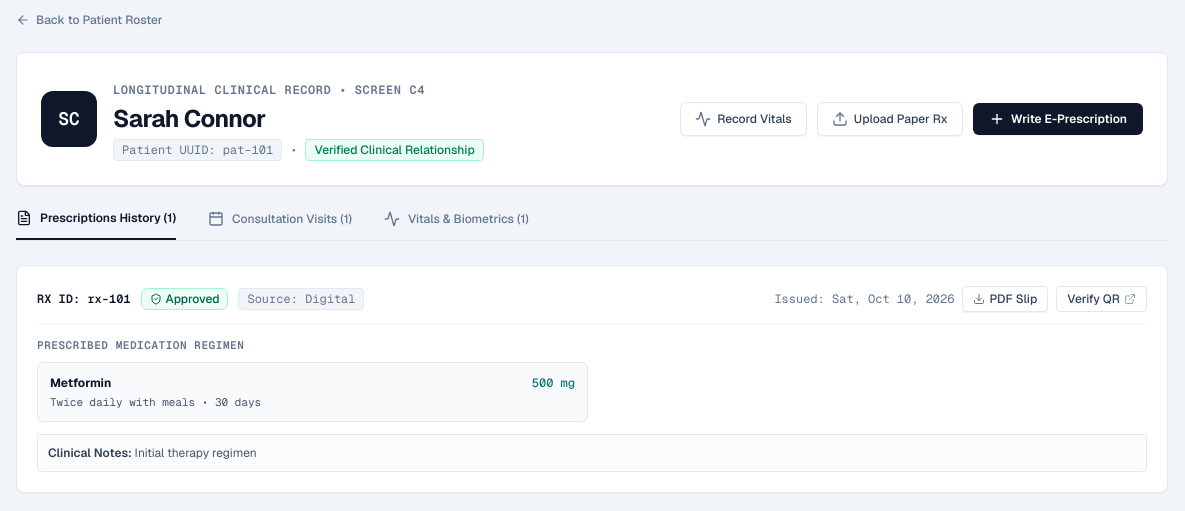
Test: DoctorPatientChart Component (Screen C4) › switches to Consultation Visits tab and displays appointment history
Check: the heading "Sarah Connor" is shown, box [113,103,266,134]
Click the button "Consultation Visits (1)".
click(280, 225)  # box [208,211,352,239]
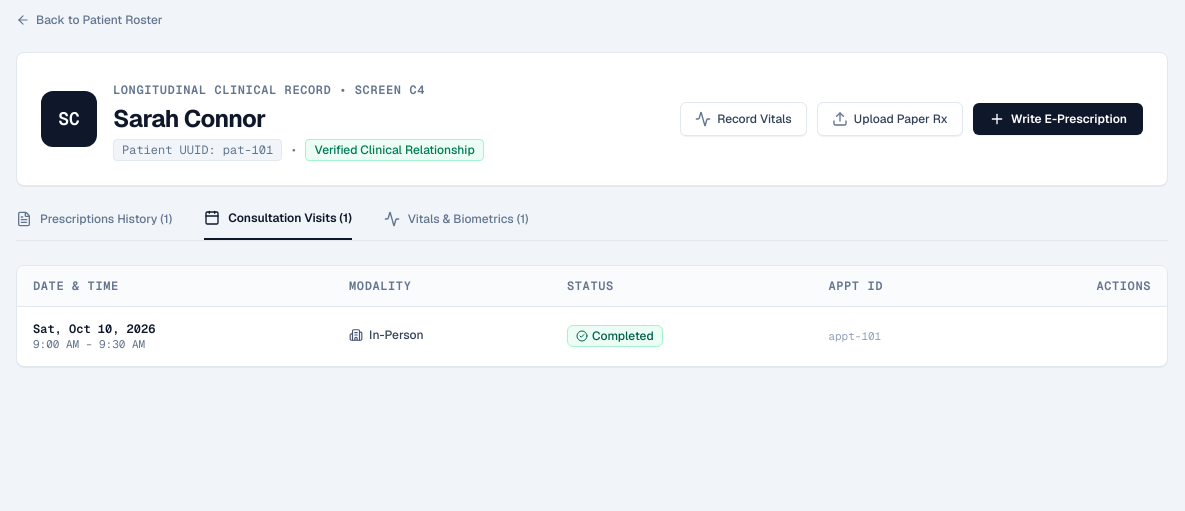
Check: the text "In-Person" is shown, box [349,327,424,343]
